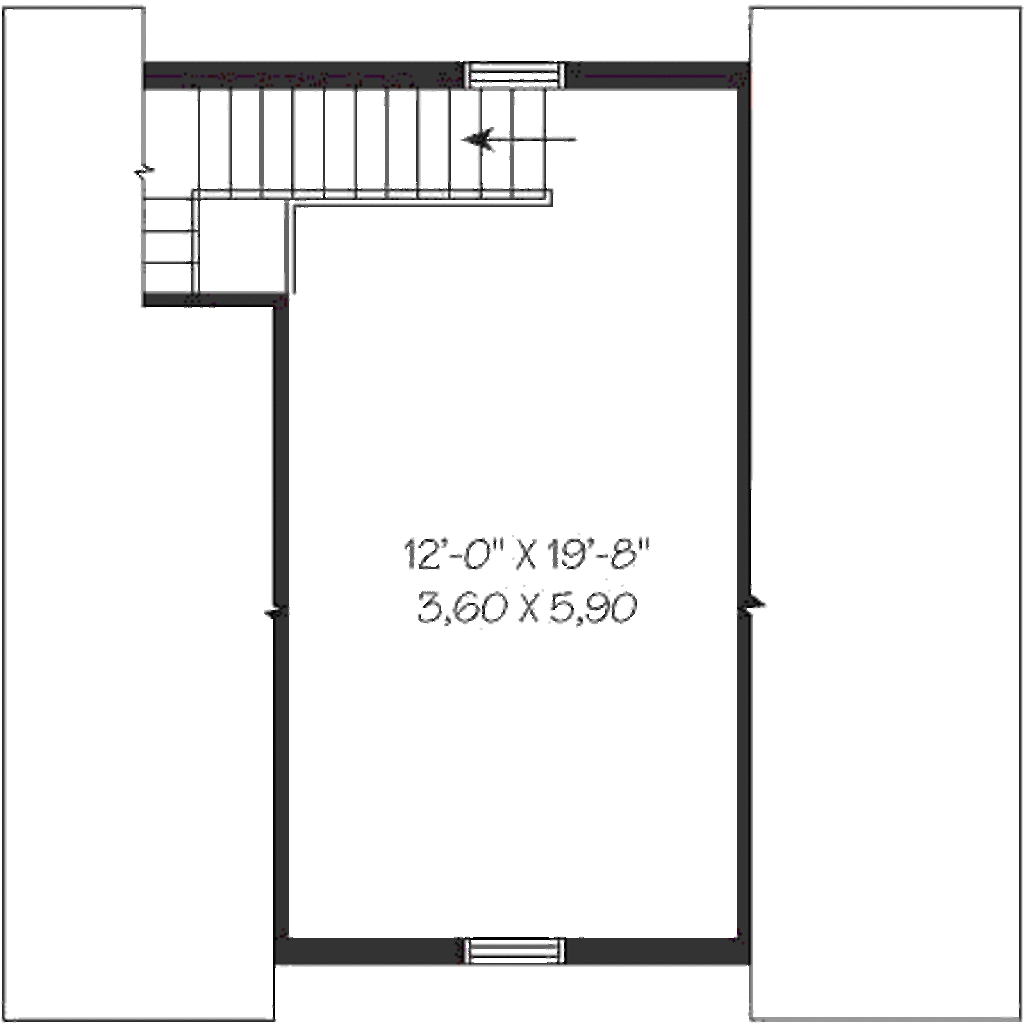stairs: (109, 89, 567, 300)
window: (459, 60, 577, 94), (461, 935, 572, 971)
